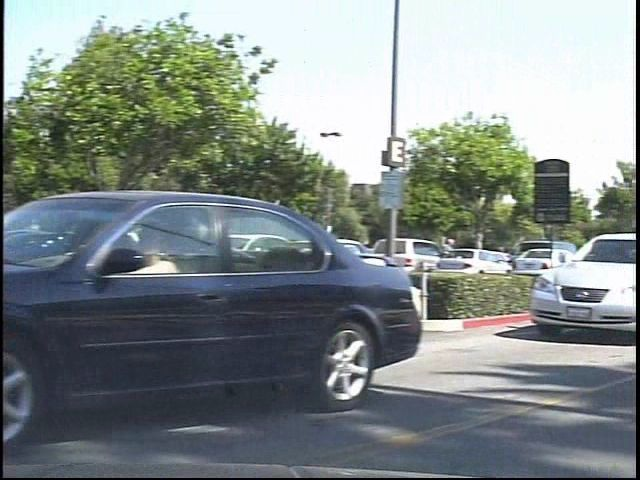person: (448, 231, 475, 285)
